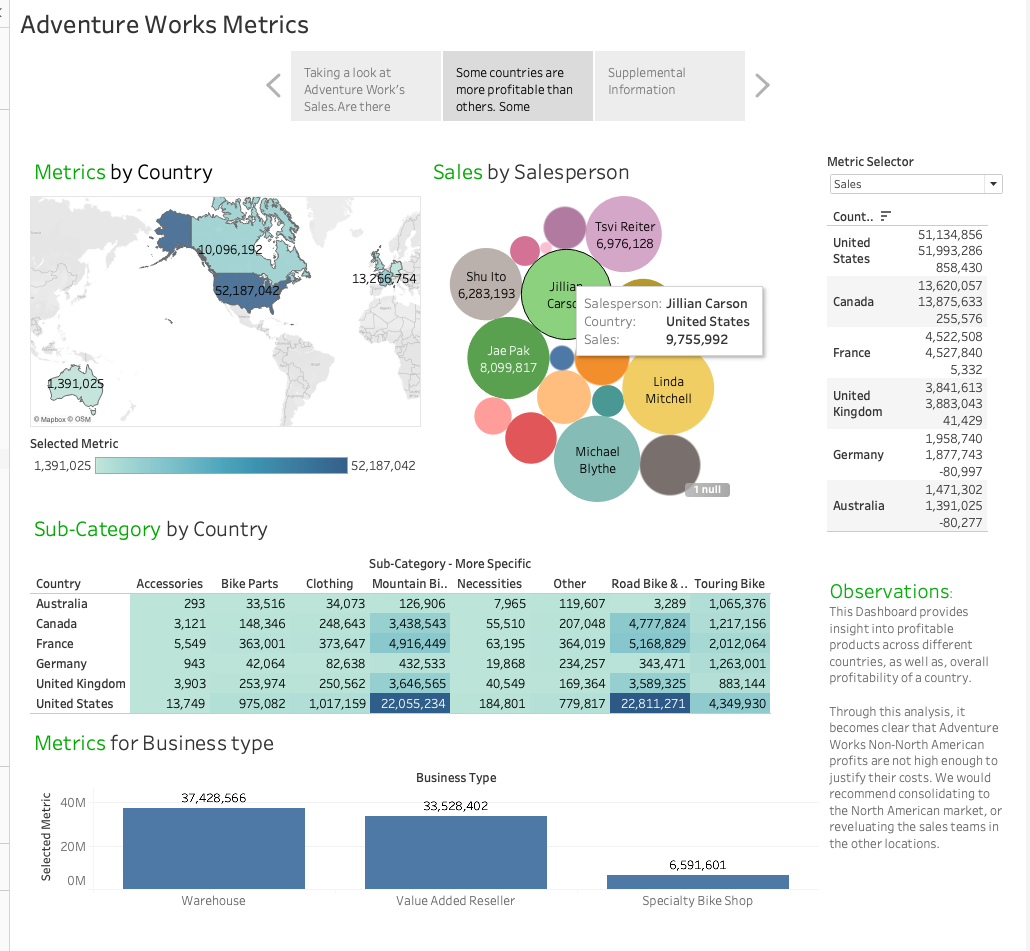

Layout of this report page (visuals, bound fields, positions):
{"tool":"tableau","page":{"name":"Dashboard 2","canvas":[1000,800],"ordinal":1},"visuals":[{"type":"worksheet","title":"Metrics by Country","mark":"Automatic","box":[8,8,398.5,282]},{"type":"worksheet","title":"Sales by Salesperson","mark":"Circle","box":[406.5,8,398.5,357]},{"type":"parameter","param":"[Parameters].[Parameter 2]","box":[805,8,187,52]},{"type":"worksheet","title":"Profit by Country","mark":"Automatic","rows":["Country-Region"],"box":[805,60,187,372]},{"type":"legend","title":"Metrics by Country","param":"[federated.0k1y2870up0gvx1c3pbg50qkeros].[sum:Calculation_385339289914679298:qk]","box":[8,290,398.5,75]},{"type":"worksheet","title":"Sub-Category by Country","mark":"Square","rows":["Country"],"cols":["Calculation_385339289922203651"],"box":[8,365,797,213.5]},{"type":"text","box":[805,432,187,290]},{"type":"worksheet","title":"Metrics for Business Type","mark":"Automatic","rows":["Calculation_385339289914679298"],"cols":["Business Type"],"box":[8,578.5,797,213.5]}]}

Visuals, with their boxes on the page's 1000x800 design canvas (x1, y1, x2, y2). These are canvas units, not pixel positions in the 1030x951 screenshot, which may show the page scaled, cropped or inside an application window:
"Metrics by Country" worksheet: <region>8, 8, 406, 290</region>
"Sales by Salesperson" worksheet (Circle marks): <region>406, 8, 805, 365</region>
parameter: <region>805, 8, 992, 60</region>
"Profit by Country" worksheet: <region>805, 60, 992, 432</region>
"Metrics by Country" legend: <region>8, 290, 406, 365</region>
"Sub-Category by Country" worksheet (Square marks): <region>8, 365, 805, 578</region>
text: <region>805, 432, 992, 722</region>
"Metrics for Business Type" worksheet: <region>8, 578, 805, 792</region>
